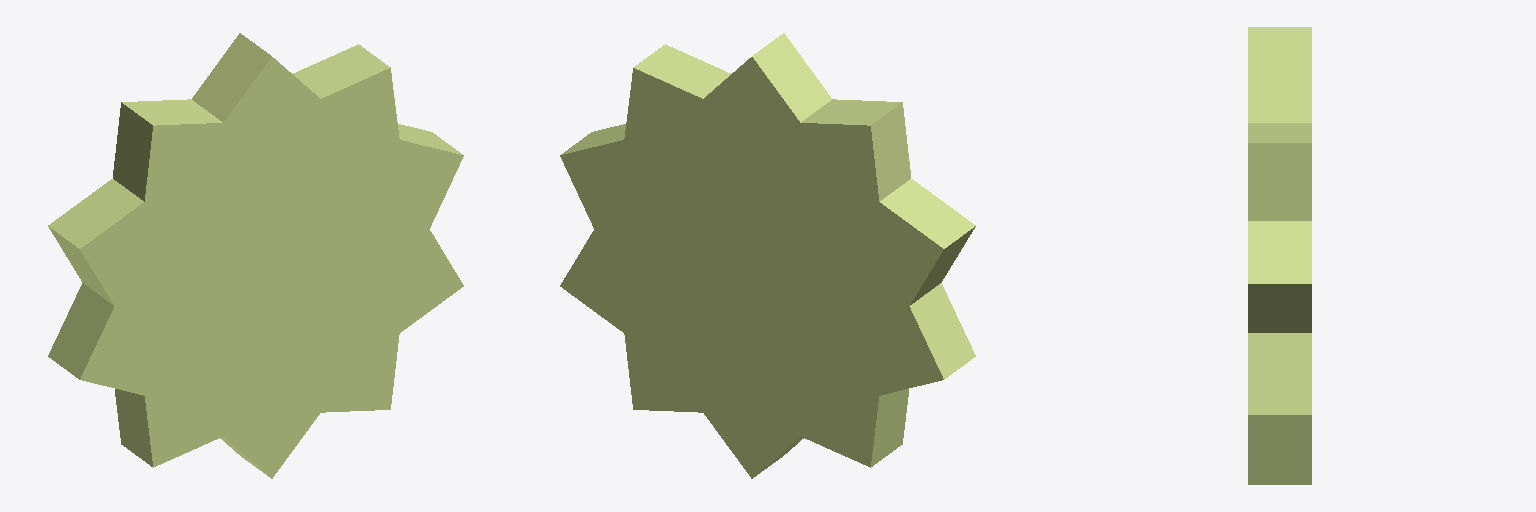
File: Coin.obj
3 views of the same model, side by side, from view 1: azimuth 30°, elevation 25°; view 2: azimuth 150°, elevation 25°; view 3: azimuth 270°, elevation 25° (orthographic).
Parts seen in each view (by area): view 1: Cylinder002; view 2: Cylinder002; view 3: Cylinder002.
Part boxes in pixels (x1,y1,x2,y2): Cylinder002: (48, 33, 463, 478); Cylinder002: (560, 33, 975, 478); Cylinder002: (1248, 27, 1311, 484).
Size of the model in its own units: 10.46 by 11 by 1.51.